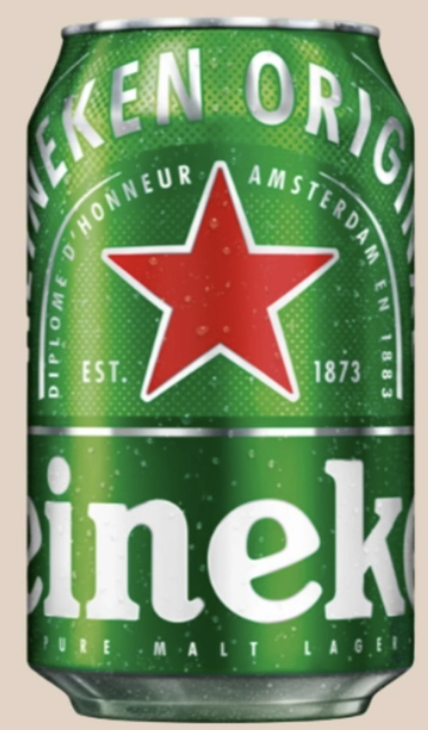beer-can: (25, 17, 415, 723)
